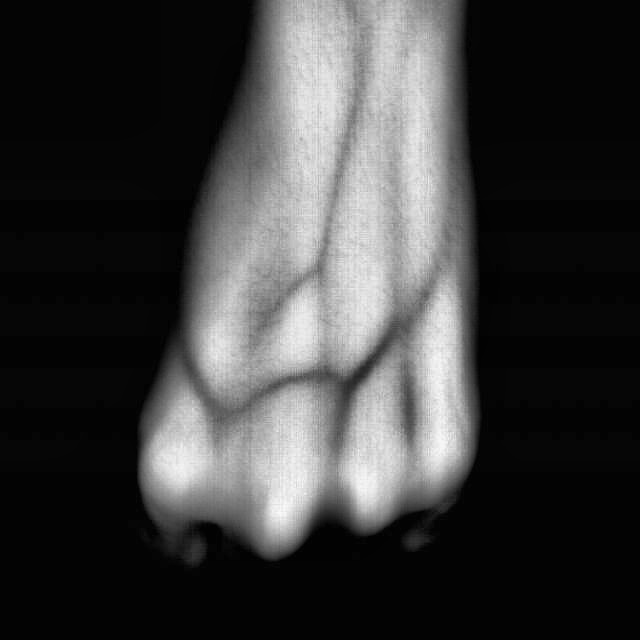Vein: (231, 332, 400, 418)
